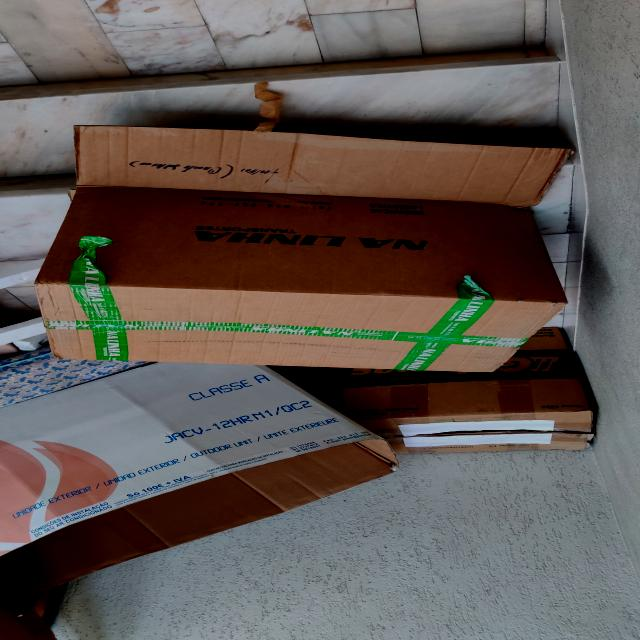Corrugated carton: (34, 126, 572, 372), (1, 345, 399, 604), (341, 327, 594, 454)
Styrofoam piece: (1, 316, 47, 346), (13, 333, 50, 352)
